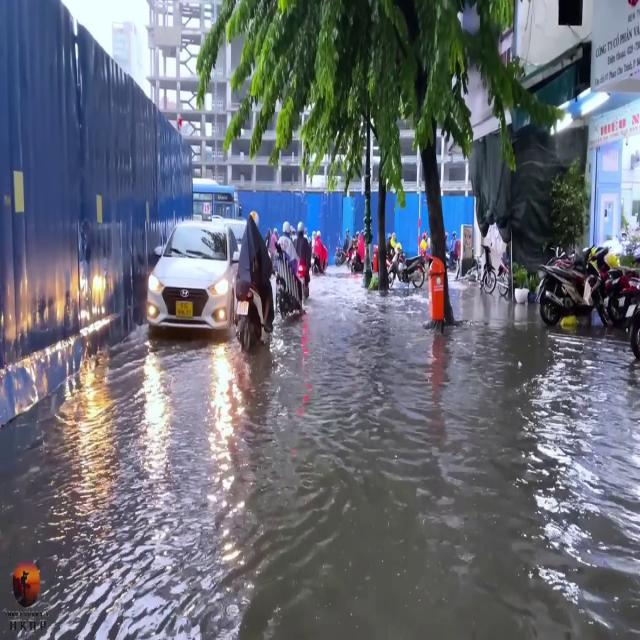bien_vang: (176, 301, 193, 322)
